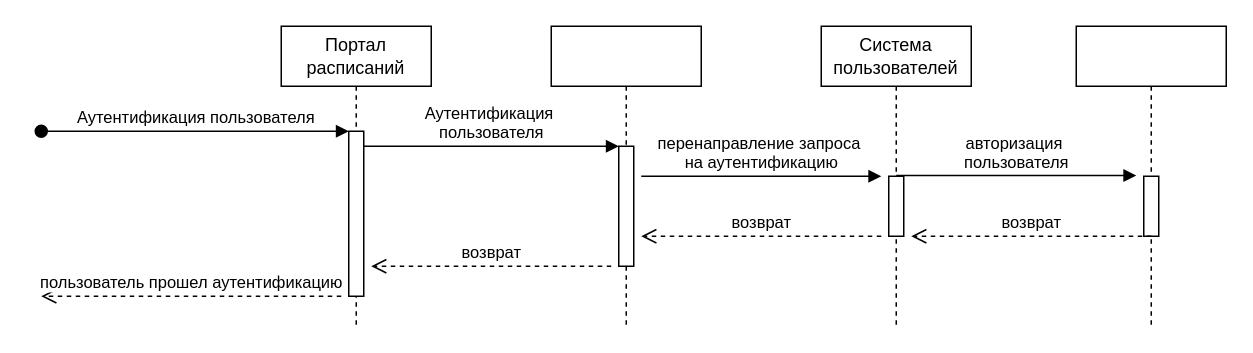
This 1253x353 diagram has some shape labels left out. The centre of each missing label's shape, as x and y in pixels:
"Балансировщик нагрузки" belongs at point 625,175.
"Сервис авторизации" belongs at point 1150,175.
